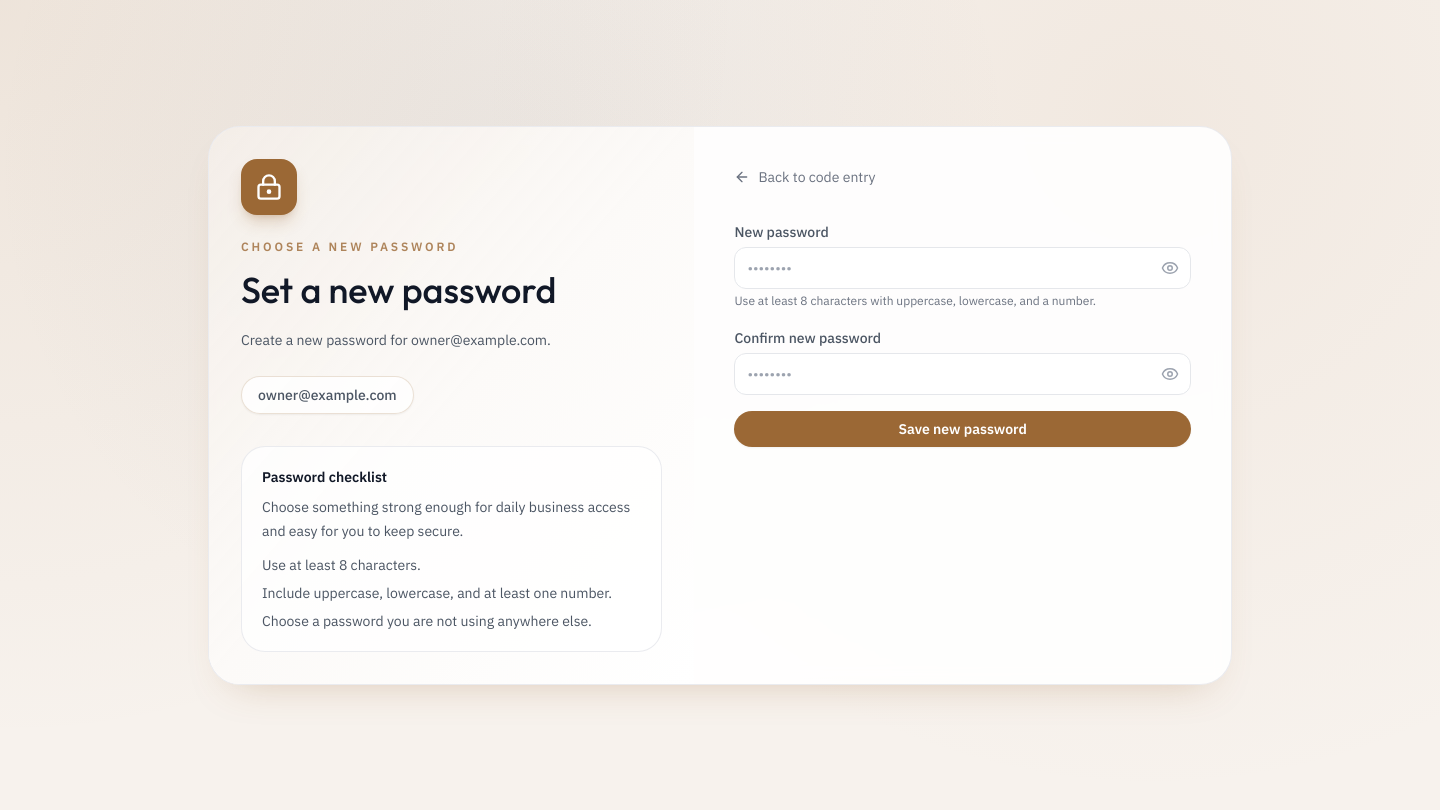
Test: ResetPassword › resets the password and shows a success state
This screenshot has width=1440, height=810.
In the password field labelled "New password": (963, 268) [734,246,1191,288], type "StrongPass1"
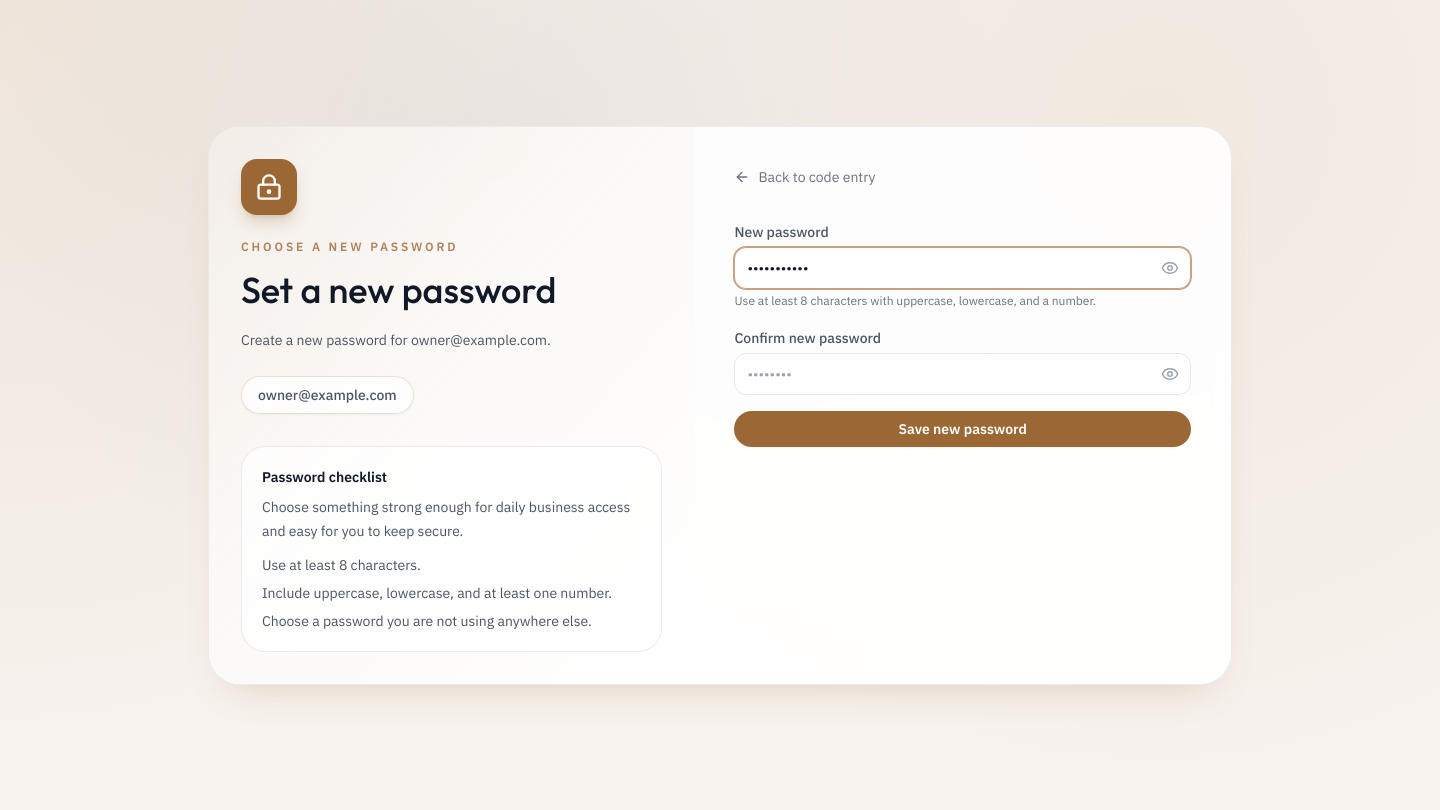
In the password field labelled "Confirm new password": (963, 374) [734,352,1191,394], type "StrongPass1"
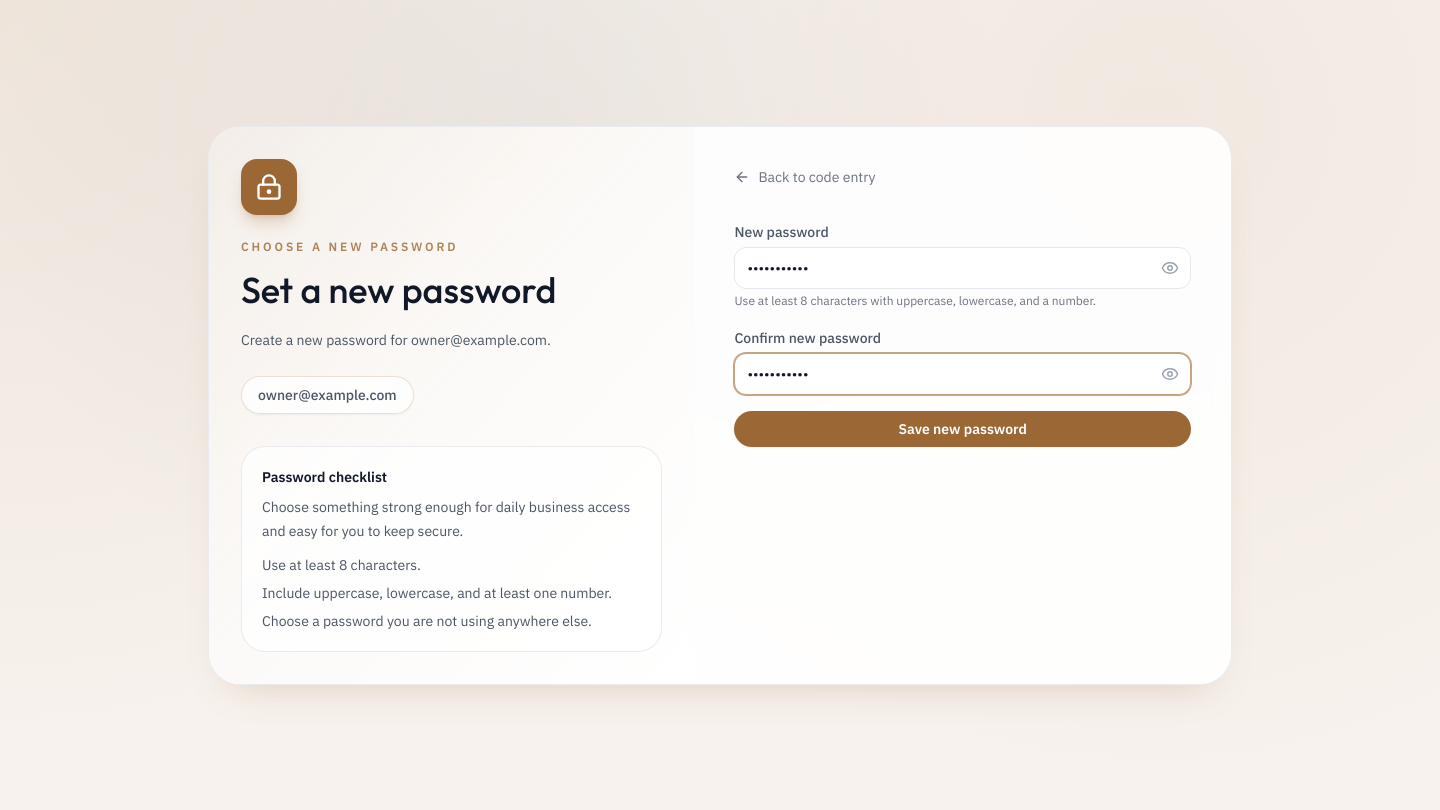
Click the button "Save new password": (963, 428) [734,410,1191,446]
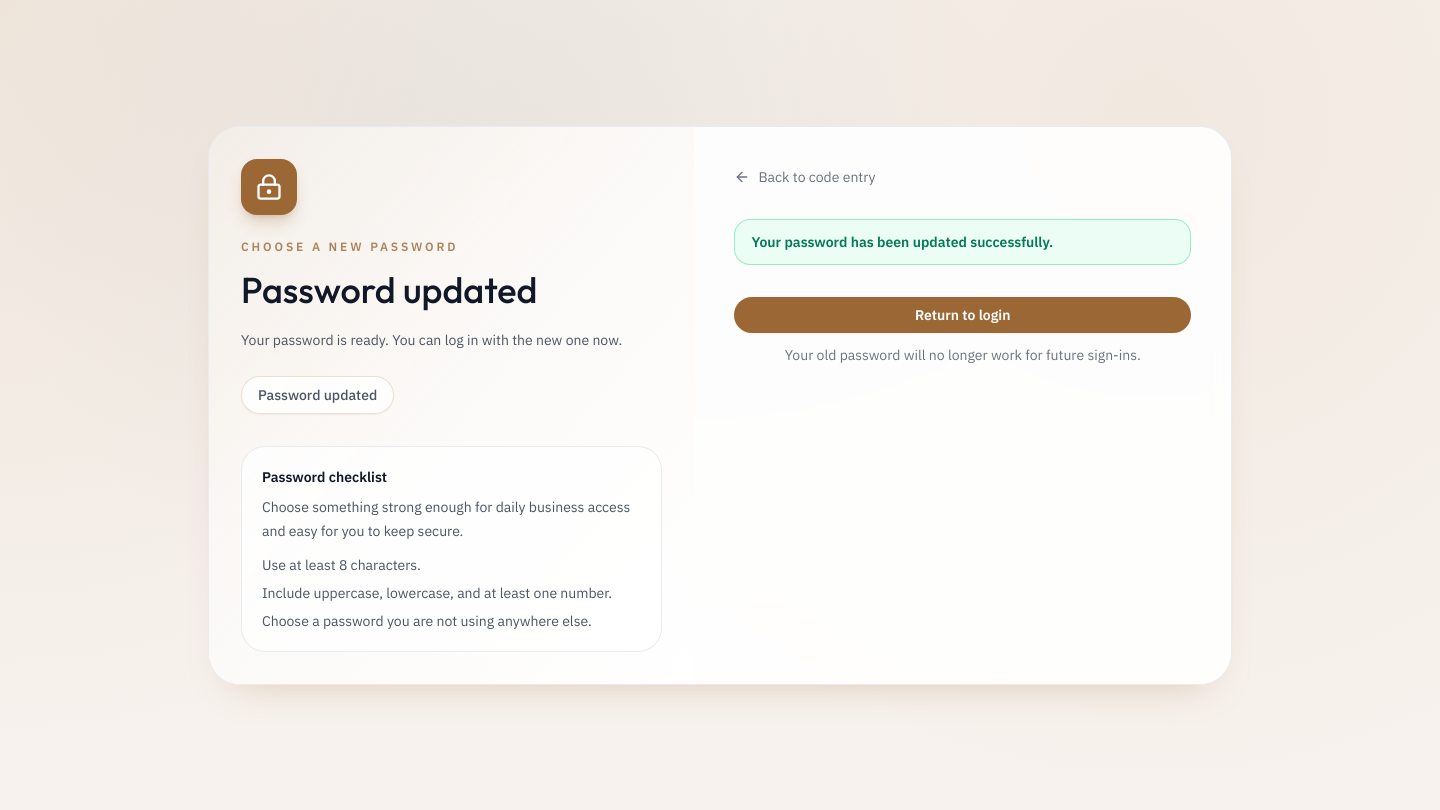
Expected: the heading "Password updated" is shown, [241,266,537,312]
Expected: the link "Return to login" is shown, [734,296,1191,332]
